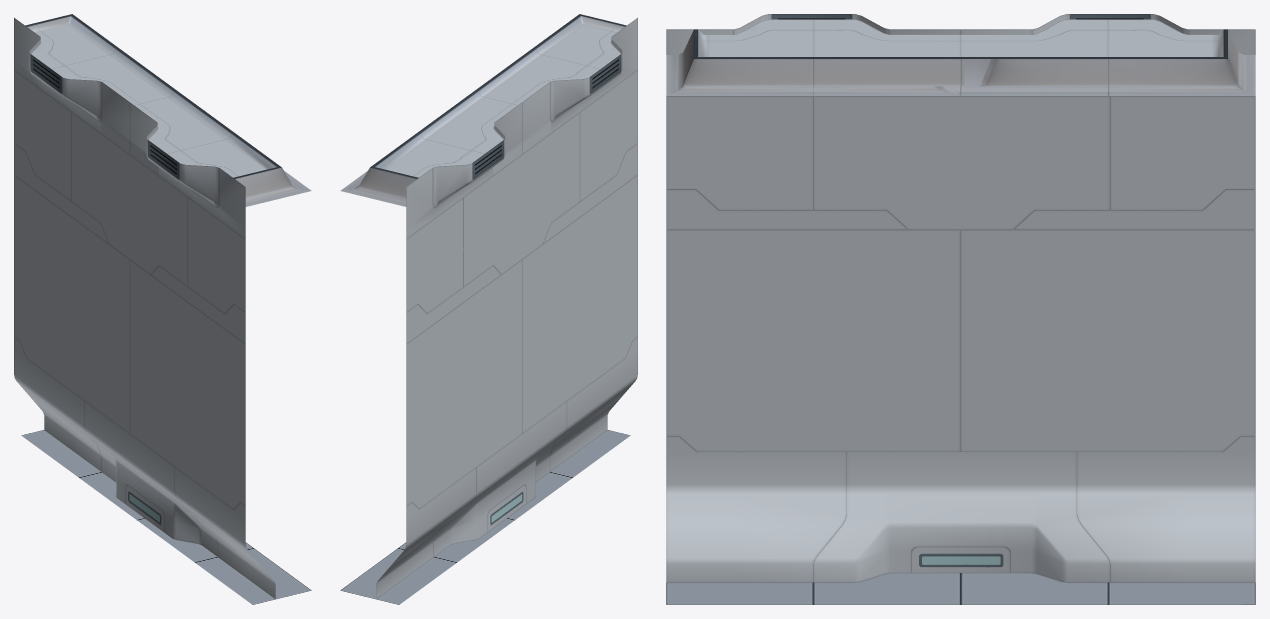
The model's file is Room_A_4m_blank_wall_inner.fbx.
3 renders of one model, left to right at view 1: azimuth 30°, elevation 25°; view 2: azimuth 150°, elevation 25°; view 3: azimuth 270°, elevation 25°, orthographic. The views are drawn at different scales.
Visible parts, largest first — view 1: Room_A_4m_blank_wall_inner; view 2: Room_A_4m_blank_wall_inner; view 3: Room_A_4m_blank_wall_inner.
Part boxes in pixels (left/top/right/bottom): Room_A_4m_blank_wall_inner: left=14, top=14, right=311, bottom=604; Room_A_4m_blank_wall_inner: left=340, top=14, right=637, bottom=604; Room_A_4m_blank_wall_inner: left=666, top=14, right=1255, bottom=604.
Bounding box in the file's own units: 90.84 × 400 × 400.
3 materials, 3 textured.
